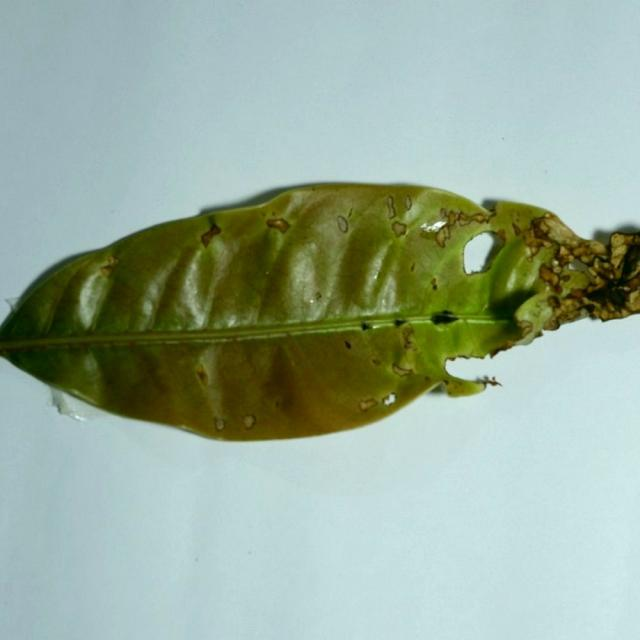Anthracnose: (1, 323, 279, 352), (511, 289, 559, 345), (459, 229, 509, 281), (487, 285, 542, 325), (362, 311, 461, 332), (442, 350, 498, 385), (76, 269, 109, 326), (259, 220, 286, 281), (440, 375, 489, 397), (506, 324, 540, 348), (566, 258, 597, 282), (205, 214, 221, 246), (100, 255, 121, 278), (265, 218, 290, 233), (421, 219, 447, 233), (392, 221, 408, 238), (195, 367, 208, 385), (336, 216, 349, 233), (567, 261, 583, 273), (243, 415, 256, 429), (383, 393, 396, 406), (0, 343, 13, 355), (214, 417, 225, 431), (404, 195, 412, 211), (589, 313, 602, 321)
Mango: (0, 183, 639, 444)
